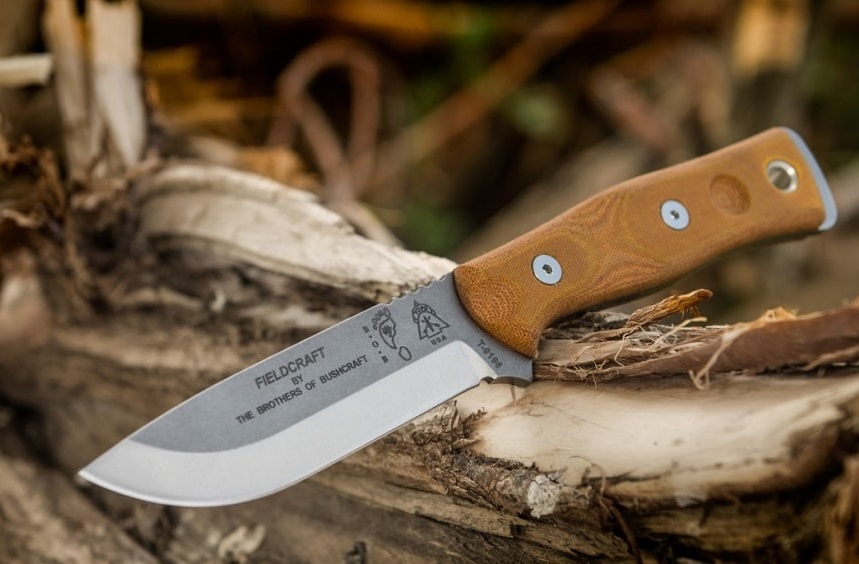knife: (65, 254, 551, 526)
